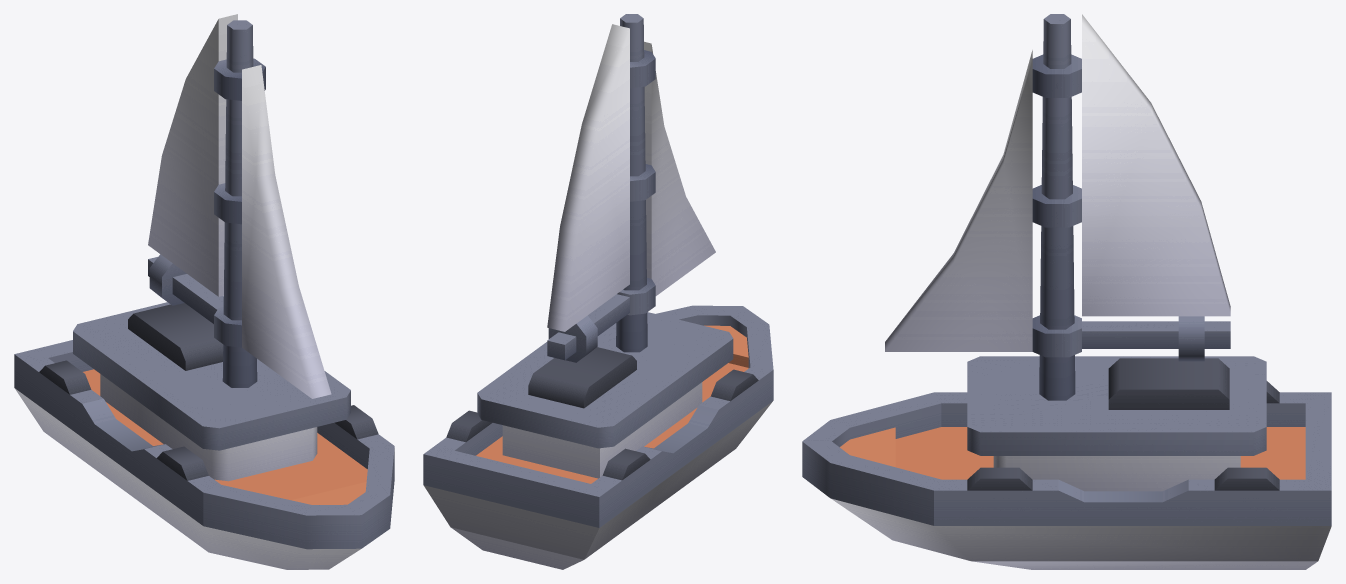
File: boat-sail-b.glb
The picture shows the model from 3 angles, left to right: view 1: azimuth 30°, elevation 25°; view 2: azimuth 150°, elevation 25°; view 3: azimuth 270°, elevation 25°; orthographic projection. The views are drawn at different scales.
Parts seen in each view (by area): view 1: boat-sail-b, boat-sail-b.001; view 2: boat-sail-b, boat-sail-b.001; view 3: boat-sail-b, boat-sail-b.001.
Part boxes in pixels (x1,y1,x2,y2): boat-sail-b: (14, 302, 394, 569); boat-sail-b.001: (148, 14, 331, 398); boat-sail-b: (423, 305, 773, 569); boat-sail-b.001: (547, 14, 715, 362); boat-sail-b: (802, 356, 1331, 569); boat-sail-b.001: (885, 14, 1230, 400).
Bounding box in the file's own units: 6.07 × 15.23 × 13.84.
1 material, 1 textured.
